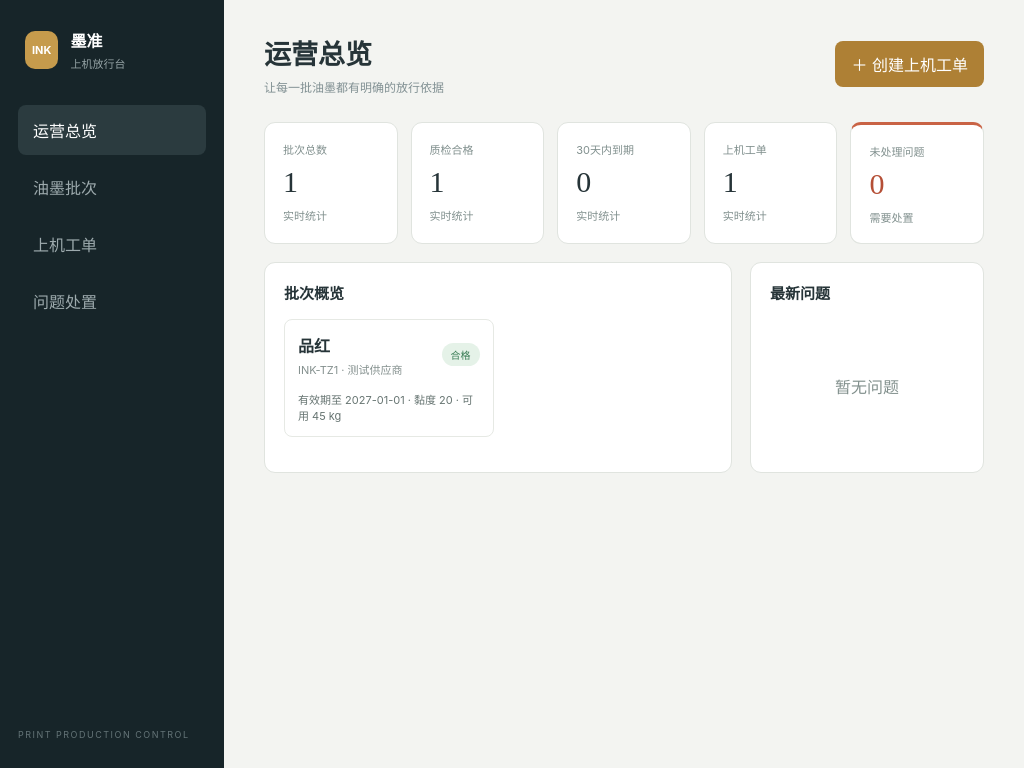
Test: switch time renders as local time of the offset-aware server instant
Expected: the text "批次总数" is shown, left=283, top=143, right=327, bottom=157
Click the button "上机工单".
click(112, 244)  # box left=18, top=219, right=206, bottom=269
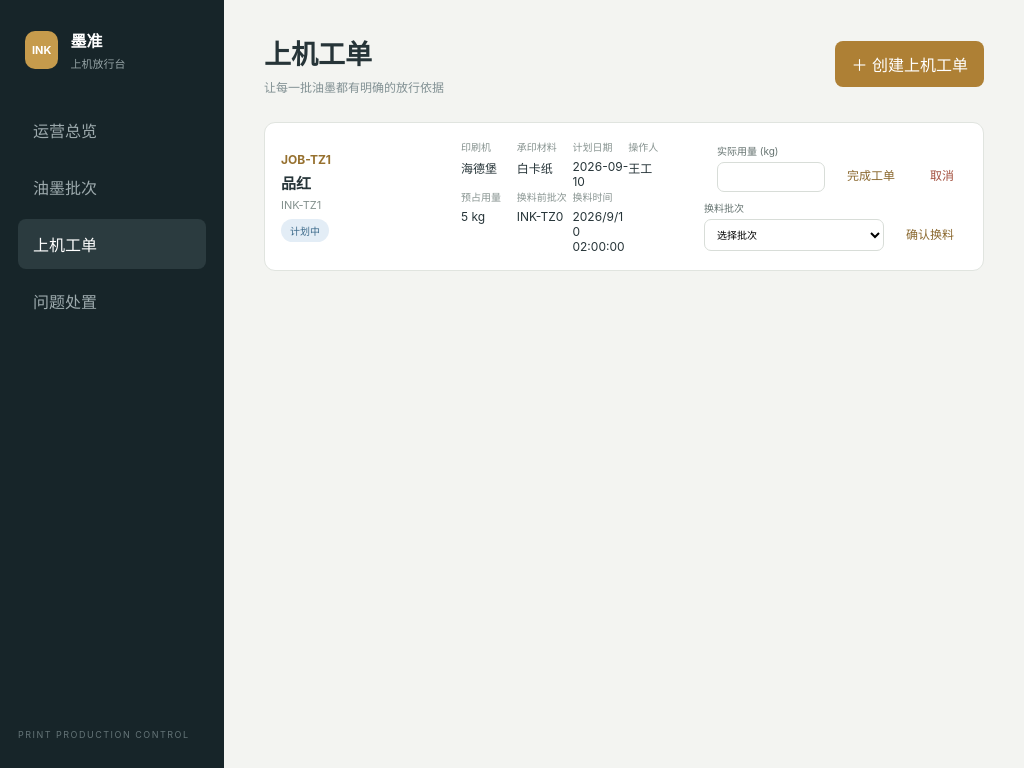
Expected: the text "JOB-TZ1" is shown, left=281, top=152, right=331, bottom=166
Expected: the text "INK-TZ0" is shown, left=517, top=209, right=563, bottom=224
